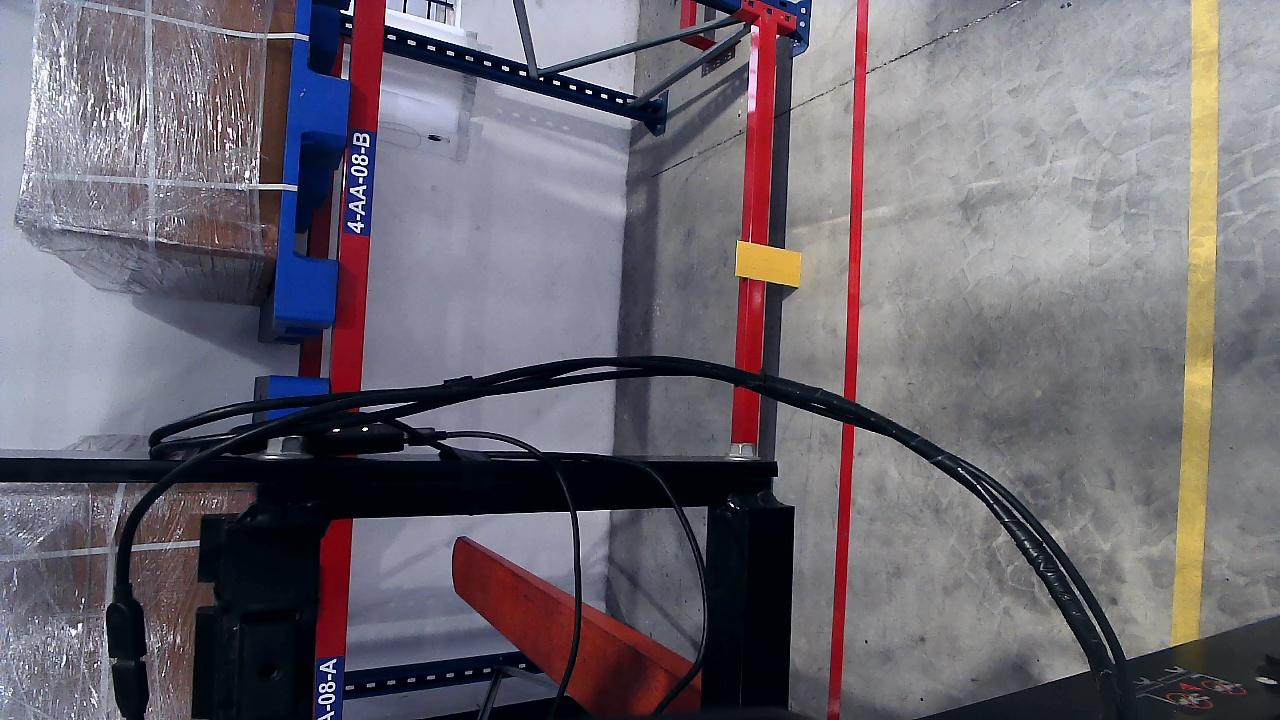h_rack: (330, 0, 388, 395), (742, 16, 780, 354)
orange_strip: (735, 241, 801, 287)
red_line: (843, 2, 868, 395), (825, 415, 857, 714)
small_pallet: (270, 1, 363, 318)
yellow_line: (1171, 85, 1219, 643)
